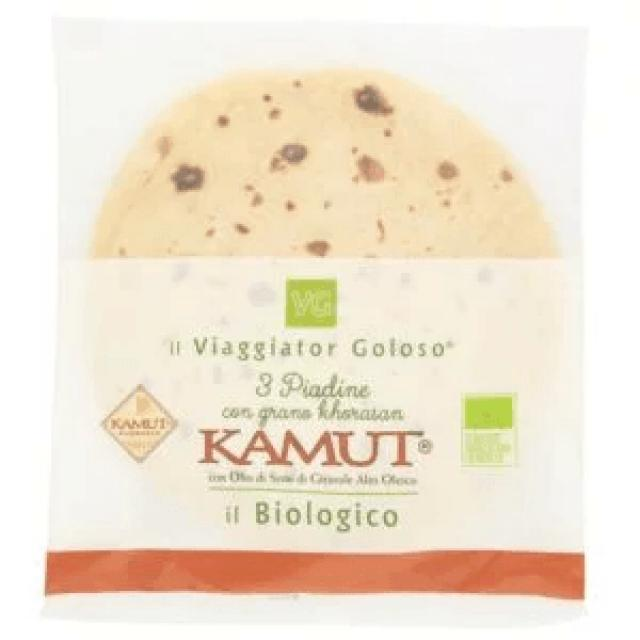Bread loaf: (47, 26, 589, 602)
